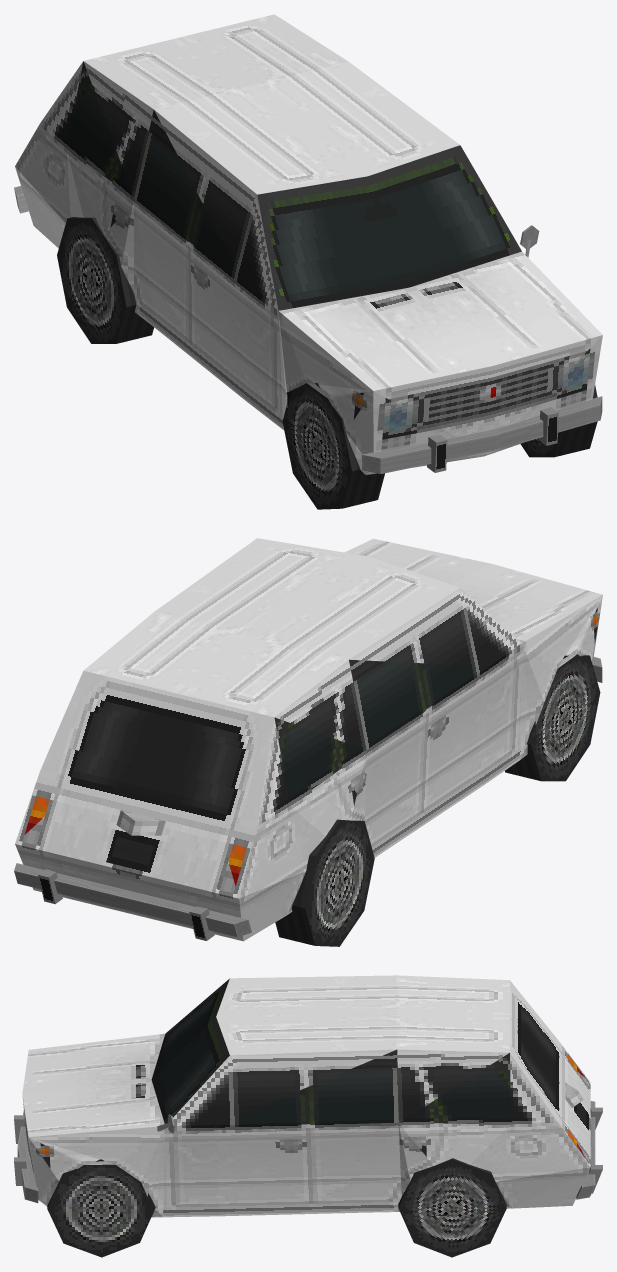
The model's file is wagon.glb.
3 views of the same model, one above another, from view 1: azimuth 30°, elevation 25°; view 2: azimuth 150°, elevation 25°; view 3: azimuth 270°, elevation 25° (orthographic). The views are drawn at different scales.
Parts seen in each view (by area): view 1: body, wheel_rr, wheel_fr, wheel_fl; view 2: body, wheel_rr, wheel_fr; view 3: body, wheel_rl, wheel_fl.
Boxes of the visible parts, box(x1,y1,x2,y2) form: body: box(14, 14, 602, 474); wheel_rr: box(57, 217, 153, 343); wheel_fr: box(282, 383, 384, 509); wheel_fl: box(520, 385, 597, 457); body: box(14, 538, 602, 941); wheel_rr: box(275, 819, 374, 946); wheel_fr: box(505, 655, 600, 781); body: box(14, 975, 602, 1217); wheel_rl: box(398, 1158, 506, 1257); wheel_fl: box(47, 1159, 155, 1257).
Size of what is drawn, in the model's own units: 1.18 by 1.05 by 2.83.
Materials: 4 (4 with a texture image).
